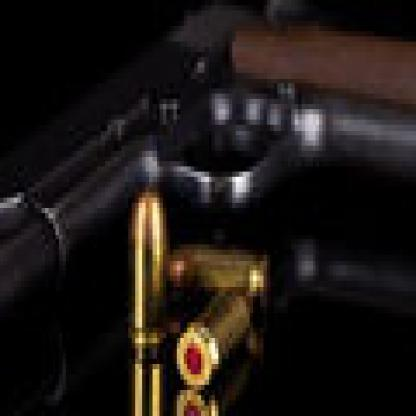gun: (0, 0, 413, 375)
